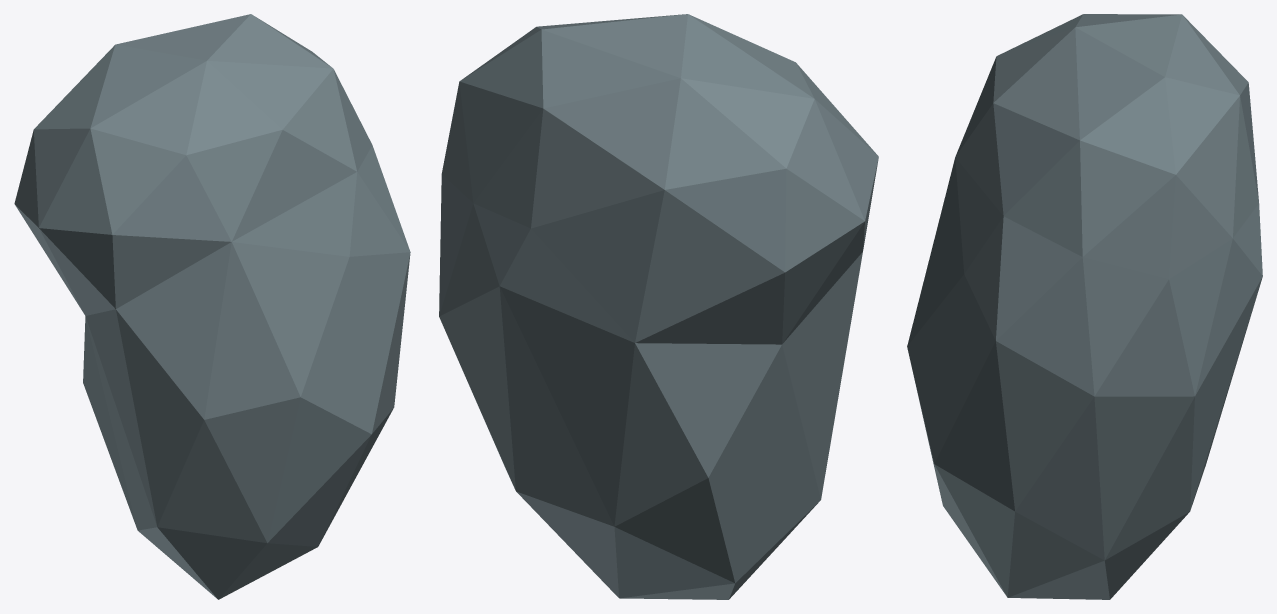
File: ITAT_ICEDRAGONHEART.OBJ
The picture shows the model from 3 angles, left to right: view 1: azimuth 30°, elevation 25°; view 2: azimuth 150°, elevation 25°; view 3: azimuth 270°, elevation 25°; orthographic projection. The views are drawn at different scales.
Visible parts, largest first — view 1: ITAT_ICEDRAGONHEART; view 2: ITAT_ICEDRAGONHEART; view 3: ITAT_ICEDRAGONHEART.
Boxes of the visible parts, bbox=[...] form: ITAT_ICEDRAGONHEART: bbox=[14, 14, 410, 599]; ITAT_ICEDRAGONHEART: bbox=[439, 14, 878, 599]; ITAT_ICEDRAGONHEART: bbox=[907, 14, 1262, 599].
Size of the model in its own units: 0.2162 by 0.3053 by 0.1735.
